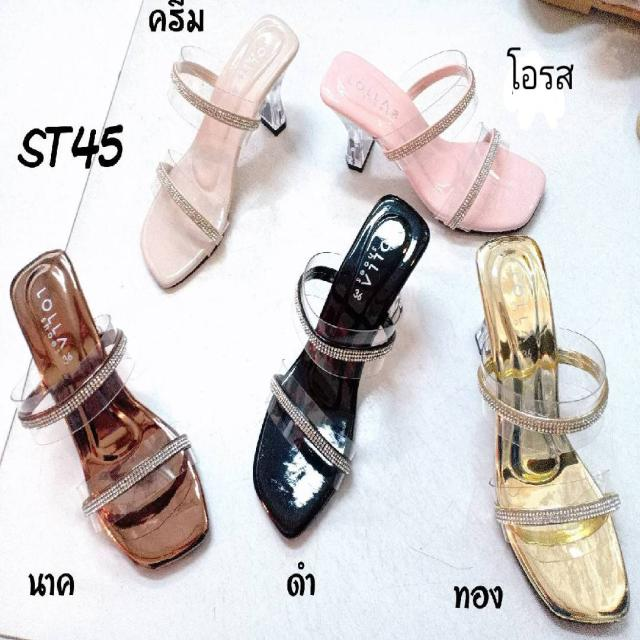black: (251, 196, 426, 533)
cream: (136, 18, 298, 289)
gold: (474, 236, 630, 629)
nak: (18, 256, 211, 571)
orot: (319, 47, 545, 231)
